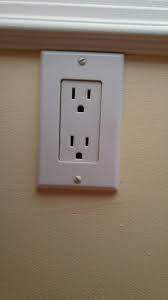outlet: (67, 85, 92, 114), (67, 132, 92, 160)
